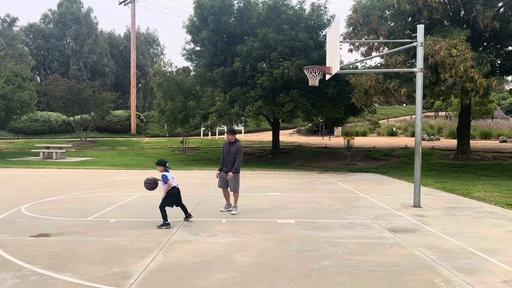ball: (144, 178, 158, 190)
human: (155, 158, 193, 228), (216, 129, 244, 215)
rim: (303, 66, 324, 86)
